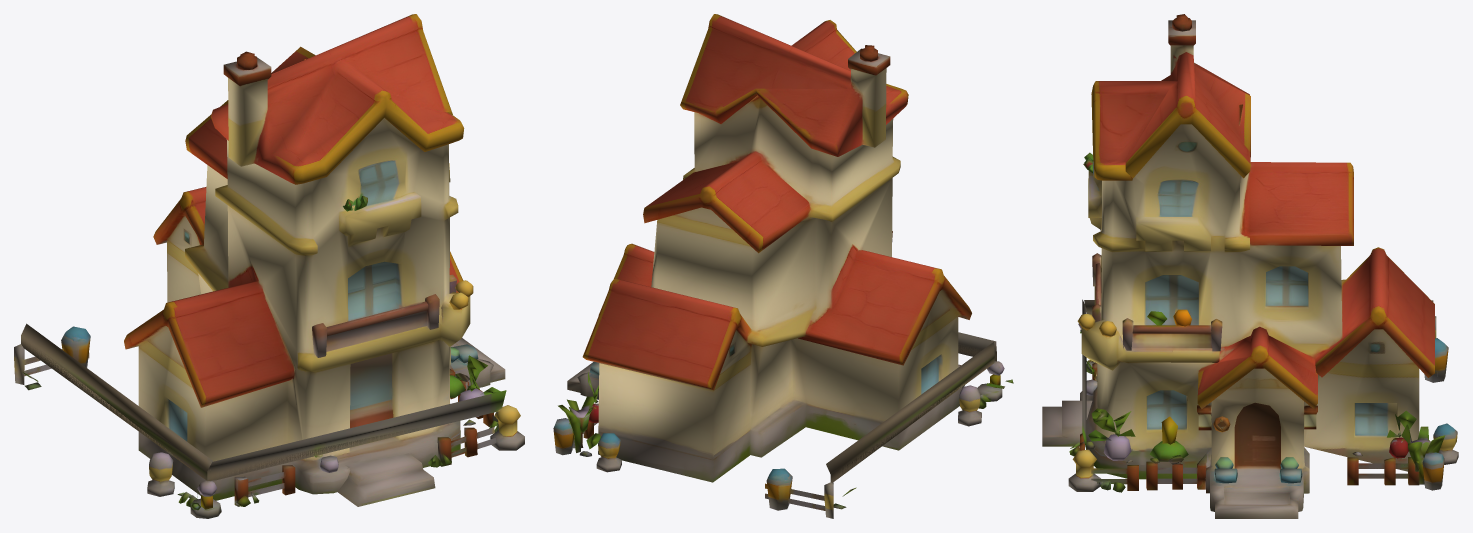
File: casa_3.glb
The picture shows the model from 3 angles, left to right: view 1: azimuth 30°, elevation 25°; view 2: azimuth 150°, elevation 25°; view 3: azimuth 270°, elevation 25°; orthographic projection. The views are drawn at different scales.
Visible parts, largest first — view 1: tripo_node_90a0f408-41a8-416b-9d45-ab86882a92c2; view 2: tripo_node_90a0f408-41a8-416b-9d45-ab86882a92c2; view 3: tripo_node_90a0f408-41a8-416b-9d45-ab86882a92c2.
Part boxes in pixels (left/top/right/bottom): tripo_node_90a0f408-41a8-416b-9d45-ab86882a92c2: left=14, top=14, right=524, bottom=518; tripo_node_90a0f408-41a8-416b-9d45-ab86882a92c2: left=553, top=14, right=1013, bottom=518; tripo_node_90a0f408-41a8-416b-9d45-ab86882a92c2: left=1042, top=14, right=1458, bottom=518.
Bounding box in the file's own units: 0.998 × 0.998 × 0.9941.
Materials: 1 (1 with a texture image).
